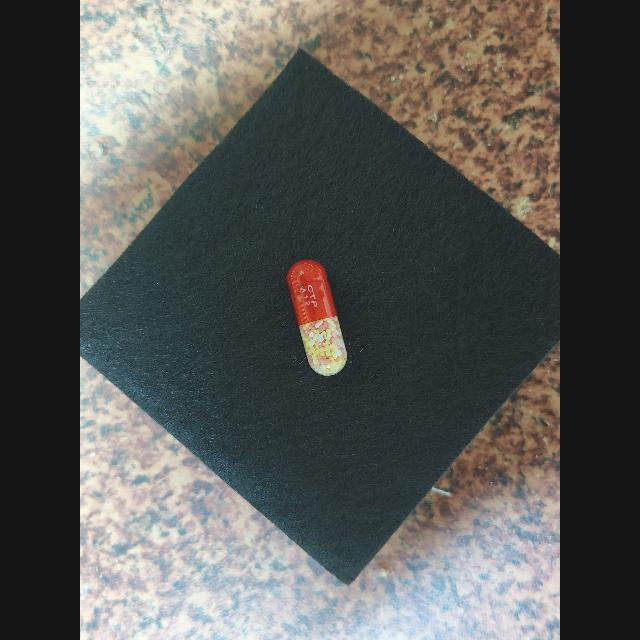Intact Capsule: (287, 260, 347, 376)
